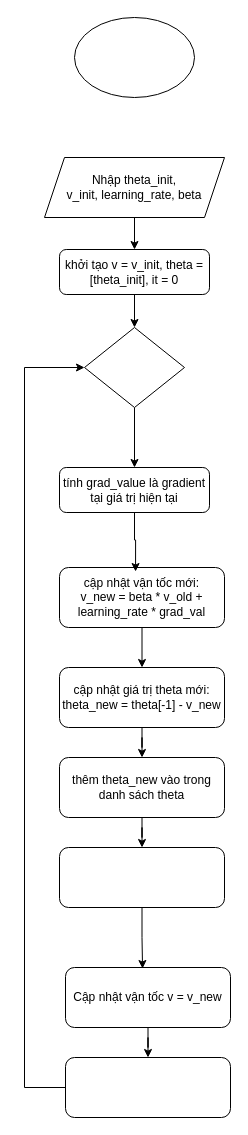
This 248x1135 diagram has some shape labels left out. The box of each missing label's shape, as (x1, y1, x2, y2) in pixels:
Bắt đầu: (74, 16, 194, 98)
it < iteration: (84, 326, 184, 408)
Kiểm tra hội tụ: (58, 846, 224, 908)
Tăng bộ đếm it = it + 1: (64, 1056, 230, 1118)
